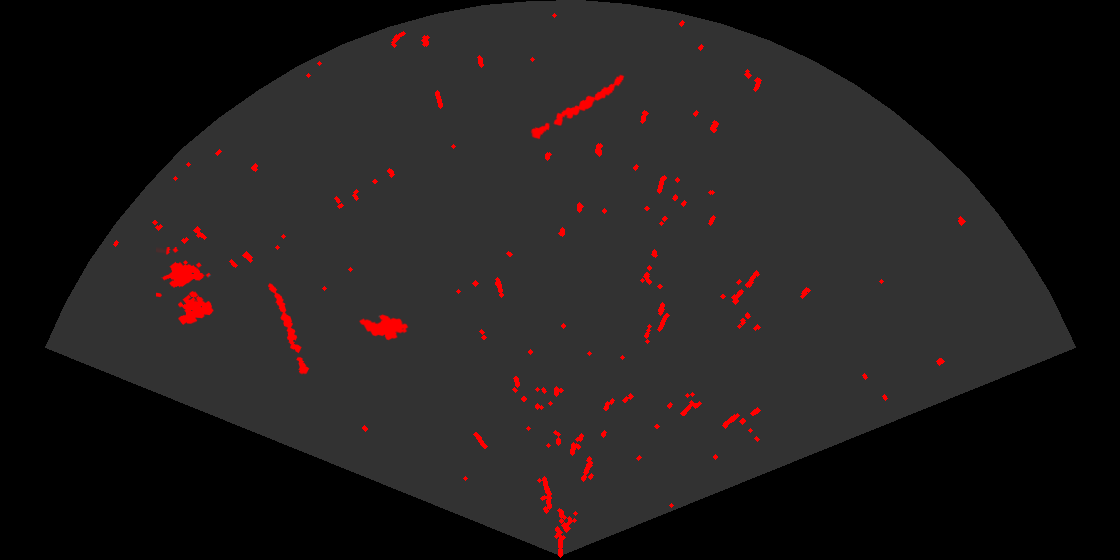AUV: (358, 313, 410, 342)
cage: (156, 247, 215, 327)
chain: (529, 73, 626, 141), (266, 282, 311, 376)
